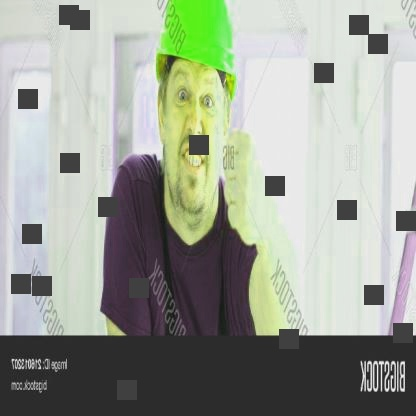yellow: (153, 0, 241, 100)
